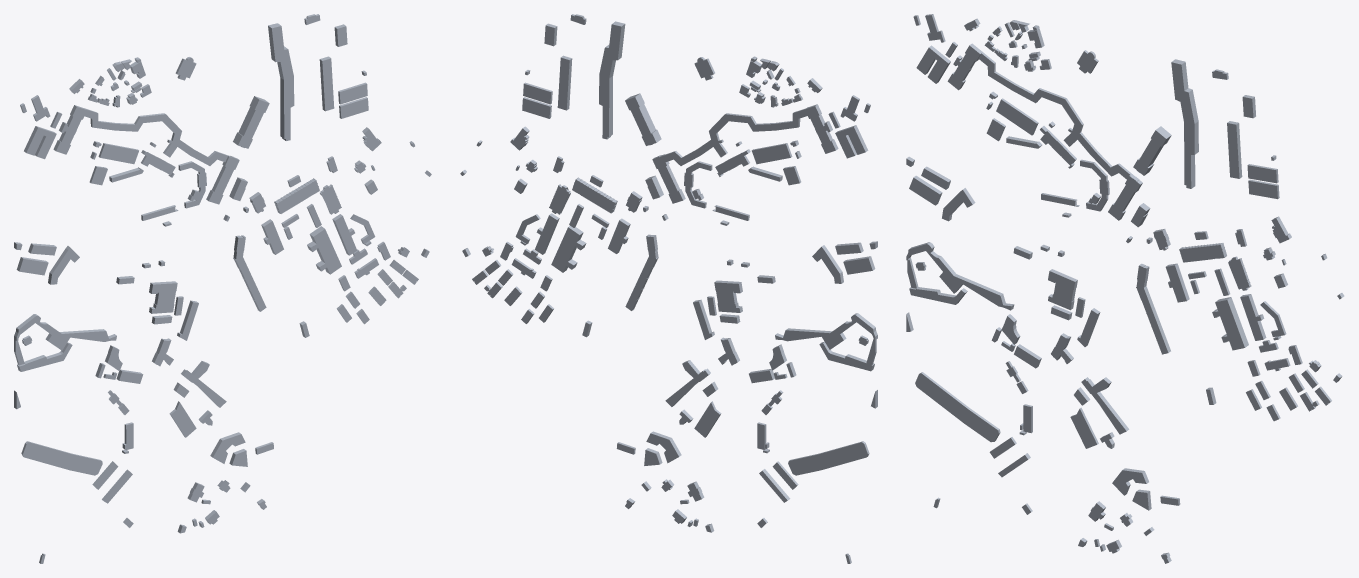
The model's file is suomenlinna-sea-fortress-buildings.obj.
3 renders of one model, left to right at view 1: azimuth 30°, elevation 25°; view 2: azimuth 150°, elevation 25°; view 3: azimuth 330°, elevation 25°, orthographic. The views are drawn at different scales.
Visible parts, largest first — view 1: 1023174618-0, 102326250S-0, 102317472L-0, 1023174862-0, 102317477S-0, 102326224X-0, 741528-0, 1023262647-0, 1023174585-0, 1023262260-0, 102326318Y-0, 102326275K-0 (+6 smaller); view 2: 1023174618-0, 102326250S-0, 102317472L-0, 1023174862-0, 102317477S-0, 102326224X-0, 741528-0, 1023262647-0, 1023174585-0, 1023262260-0, 102326318Y-0, 102326275K-0 (+5 smaller); view 3: 1023174618-0, 102326250S-0, 102317472L-0, 1023174862-0, 102326224X-0, 1023262647-0, 741528-0, 102317477S-0, 102326239D-0, 102317473M-0, 1023174585-0, 102326318Y-0 (+8 smaller).
Part boxes in pixels (left/top/right/bottom): 1023174618-0: left=85, top=108, right=227, bottom=165; 102326250S-0: left=21, top=441, right=102, bottom=475; 102317472L-0: left=268, top=23, right=294, bottom=108; 1023174862-0: left=307, top=226, right=341, bottom=274; 102317477S-0: left=233, top=96, right=269, bottom=148; 102326224X-0: left=233, top=235, right=266, bottom=311; 741528-0: left=149, top=281, right=177, bottom=313; 1023262647-0: left=45, top=329, right=116, bottom=350; 1023174585-0: left=53, top=105, right=87, bottom=154; 1023262260-0: left=274, top=178, right=319, bottom=213; 102326318Y-0: left=24, top=126, right=56, bottom=159; 102326275K-0: left=206, top=155, right=239, bottom=204; 1023174618-0: left=663, top=108, right=807, bottom=165; 102326250S-0: left=788, top=441, right=869, bottom=475; 102317472L-0: left=599, top=21, right=625, bottom=106; 1023174862-0: left=551, top=226, right=586, bottom=272; 102317477S-0: left=625, top=93, right=661, bottom=145; 102326224X-0: left=625, top=234, right=658, bottom=310; 741528-0: left=714, top=280, right=742, bottom=312; 1023262647-0: left=775, top=328, right=846, bottom=349; 1023174585-0: left=805, top=104, right=838, bottom=153; 1023262260-0: left=572, top=177, right=617, bottom=213; 102326318Y-0: left=835, top=125, right=868, bottom=158; 102326275K-0: left=652, top=154, right=685, bottom=203; 1023174618-0: left=978, top=52, right=1131, bottom=179; 102326250S-0: left=915, top=372, right=1000, bottom=442; 102317472L-0: left=1171, top=59, right=1198, bottom=154; 1023174862-0: left=1212, top=297, right=1248, bottom=350; 102326224X-0: left=1136, top=263, right=1170, bottom=354; 1023262647-0: left=939, top=272, right=1014, bottom=310; 741528-0: left=1048, top=269, right=1077, bottom=310; 102317477S-0: left=1133, top=126, right=1171, bottom=175; 102326239D-0: left=1083, top=377, right=1129, bottom=434; 102317473M-0: left=1227, top=121, right=1242, bottom=178; 1023174585-0: left=947, top=43, right=982, bottom=90; 102326318Y-0: left=916, top=45, right=950, bottom=83.
Bounding box in the file's own units: 628 × 700 × 13.6.
